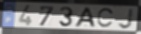3: (58, 6, 74, 28)
4: (18, 4, 34, 28)
7: (39, 5, 56, 27)
A: (73, 7, 97, 28)
C: (96, 7, 116, 29)
J: (117, 8, 134, 30)
